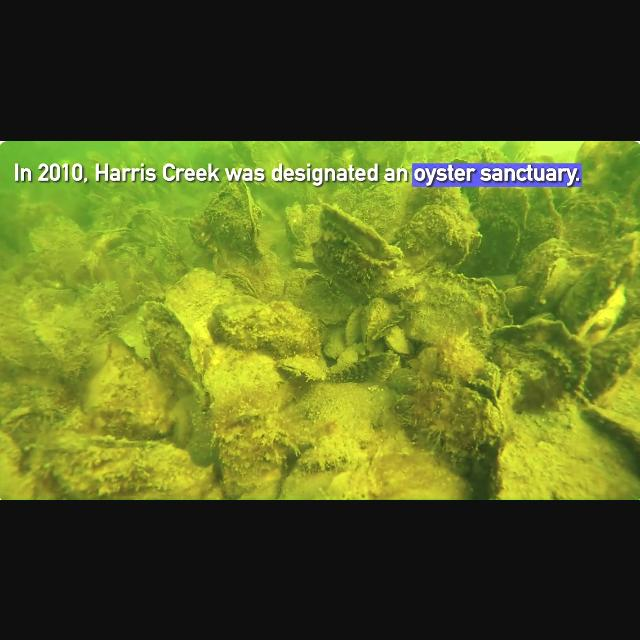Oyster-Closed: (394, 381, 508, 492), (40, 434, 218, 500), (392, 270, 514, 344), (484, 317, 592, 393), (136, 302, 204, 396), (210, 352, 286, 424), (200, 179, 264, 259), (394, 205, 474, 267), (162, 265, 232, 319), (209, 297, 279, 348), (576, 403, 640, 455), (488, 176, 544, 234), (574, 286, 626, 344), (77, 362, 129, 418), (28, 220, 88, 266), (512, 238, 572, 284), (388, 178, 469, 212), (598, 223, 640, 284), (106, 243, 154, 295), (480, 213, 518, 270), (129, 204, 173, 246), (497, 278, 541, 316), (86, 334, 114, 372), (158, 233, 184, 271), (382, 327, 412, 357), (346, 304, 368, 344), (322, 328, 348, 360), (64, 347, 84, 383)
Oyster-Open: (311, 203, 403, 293), (576, 140, 640, 204), (357, 291, 395, 353), (530, 257, 572, 309), (280, 352, 328, 382), (260, 432, 306, 463), (222, 269, 260, 301), (2, 403, 36, 431), (92, 224, 132, 246)
